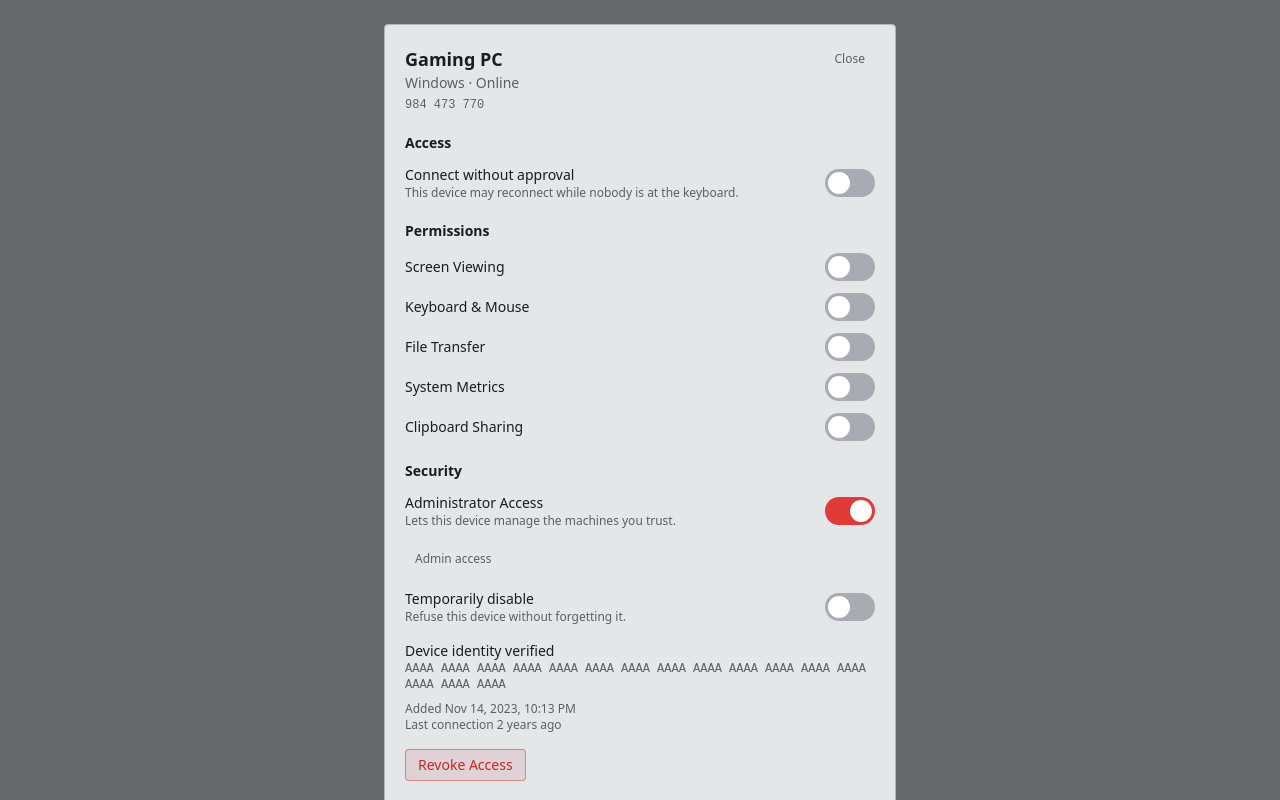
Test case: DeviceDetail › explains what administrator granted when the indicator is used
Click the button "Admin access". click: (453, 559)
box: [405,545,501,573]
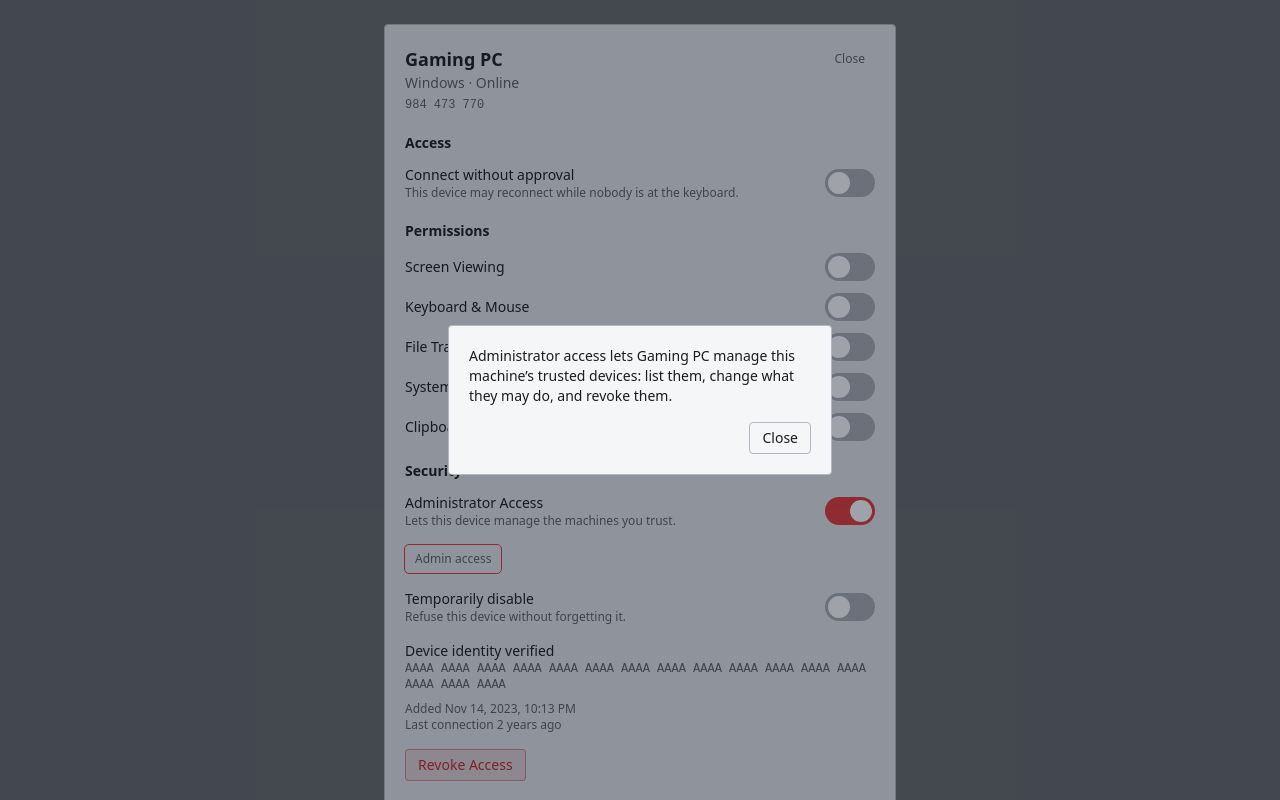
Result: the text "manage this machine.s trusted devices" is shown at [469,346,795,405]
